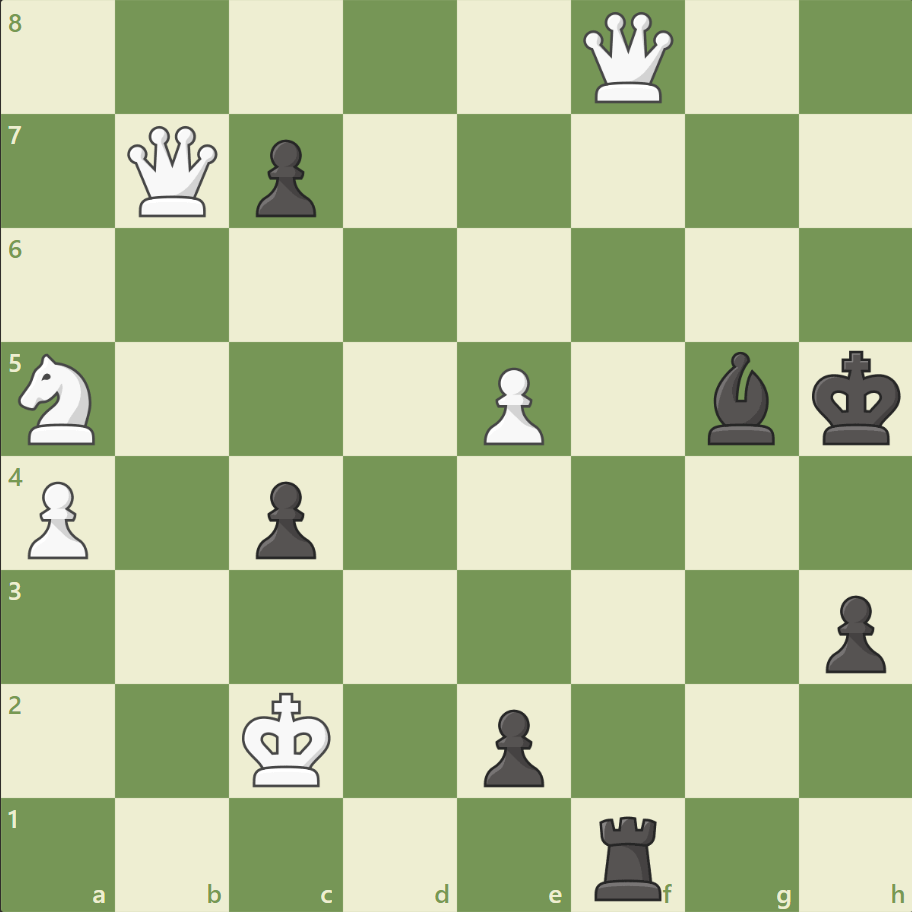K: (238, 685, 338, 793)
N: (11, 348, 108, 450)
P: (474, 359, 549, 450), (20, 473, 95, 564)
Q: (124, 122, 223, 222), (578, 9, 677, 108)
b: (698, 347, 782, 449)
k: (806, 344, 906, 452)
p: (247, 132, 322, 223), (247, 473, 322, 564), (474, 700, 549, 791), (815, 586, 889, 677)
r: (587, 806, 670, 904)
